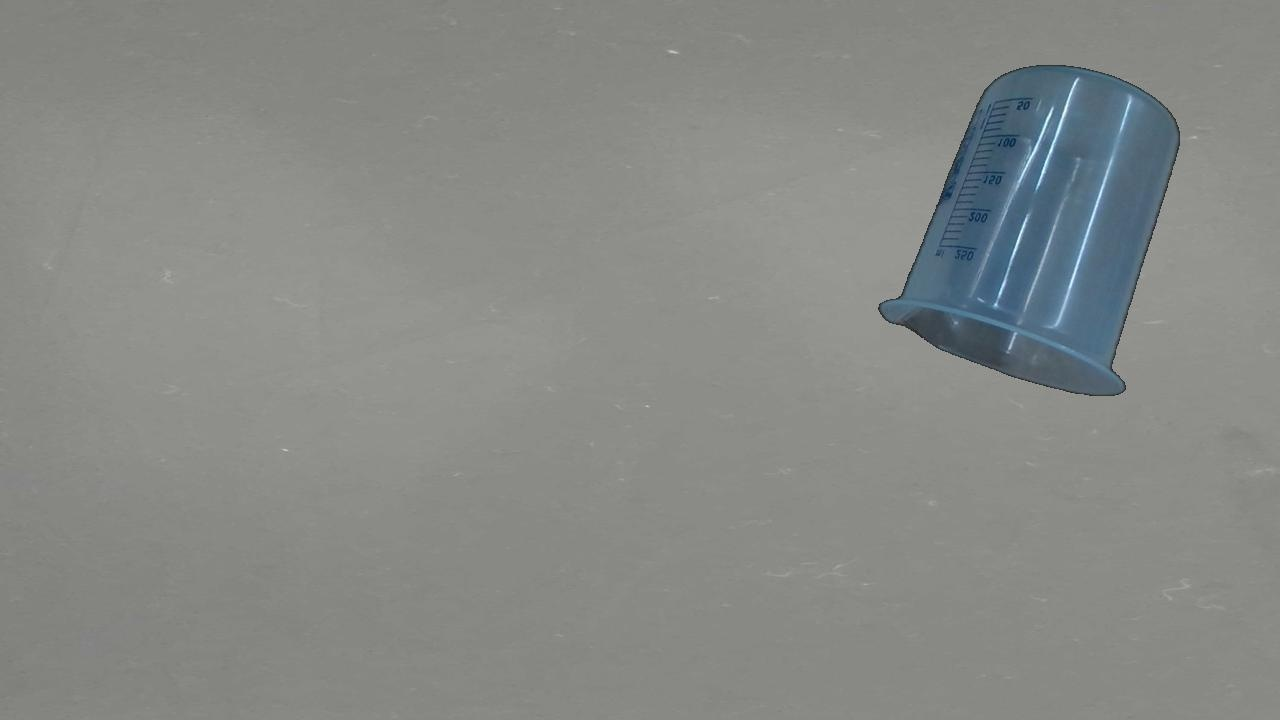becker: (875, 63, 1180, 396)
